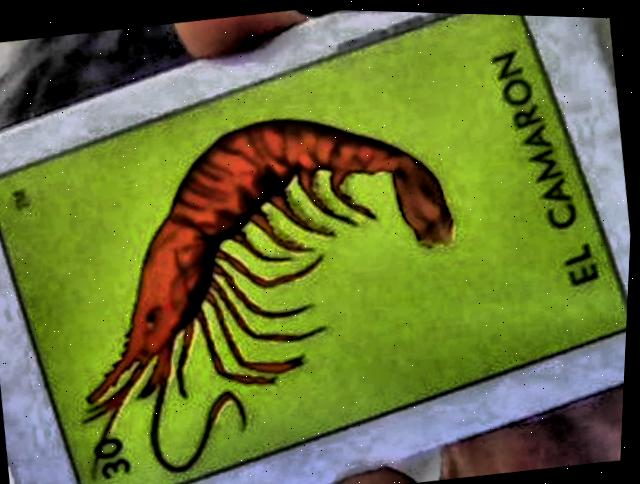El Camaron: (0, 11, 630, 484)
